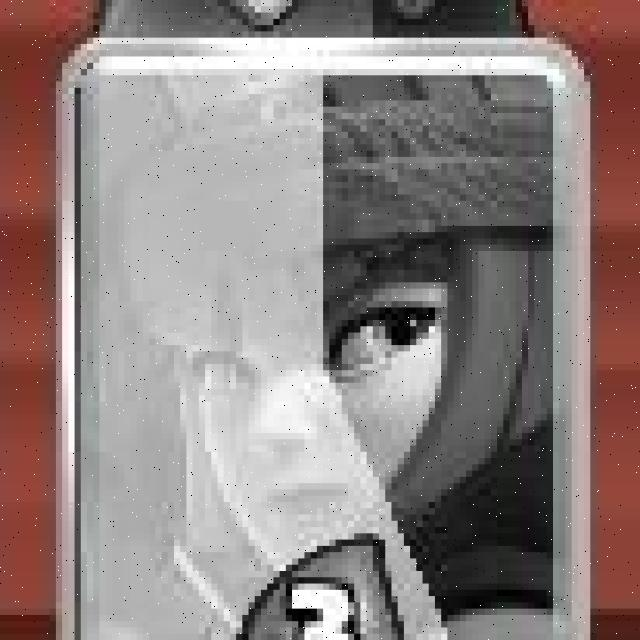Firecracker: (49, 34, 589, 640)
